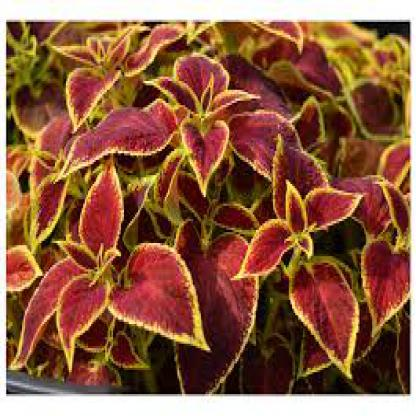Bunga Coleus: (7, 34, 398, 362)
